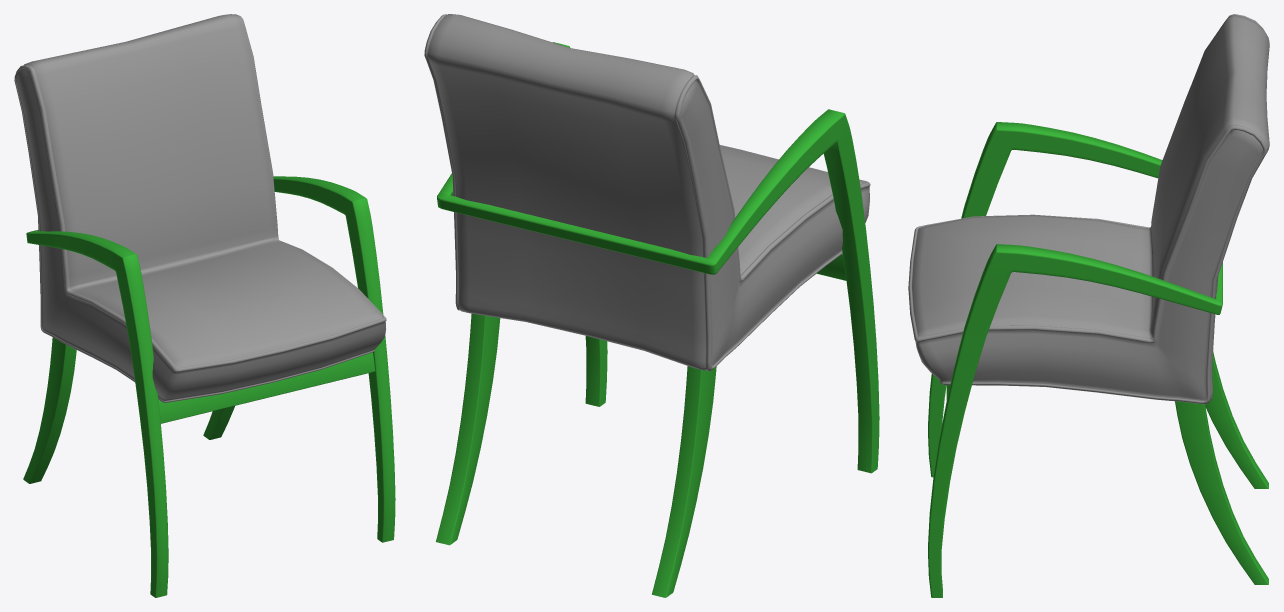
Rendered from Silla_Comedor.FBX.
3 views of the same model, side by side, from view 1: azimuth 30°, elevation 25°; view 2: azimuth 150°, elevation 25°; view 3: azimuth 270°, elevation 25° (orthographic). The views are drawn at different scales.
Visible parts, largest first — view 1: Object001, Collapse_Fur_Cha_Mod_078; view 2: Object001, Collapse_Fur_Cha_Mod_078; view 3: Object001, Collapse_Fur_Cha_Mod_078.
Part boxes in pixels (x1,y1,x2,y2): Object001: (14, 14, 386, 402); Collapse_Fur_Cha_Mod_078: (23, 176, 395, 597); Object001: (424, 14, 870, 371); Collapse_Fur_Cha_Mod_078: (436, 42, 879, 597); Object001: (908, 14, 1269, 404); Collapse_Fur_Cha_Mod_078: (928, 122, 1268, 597).
Size of the model in its own units: 524 by 877 by 616.
